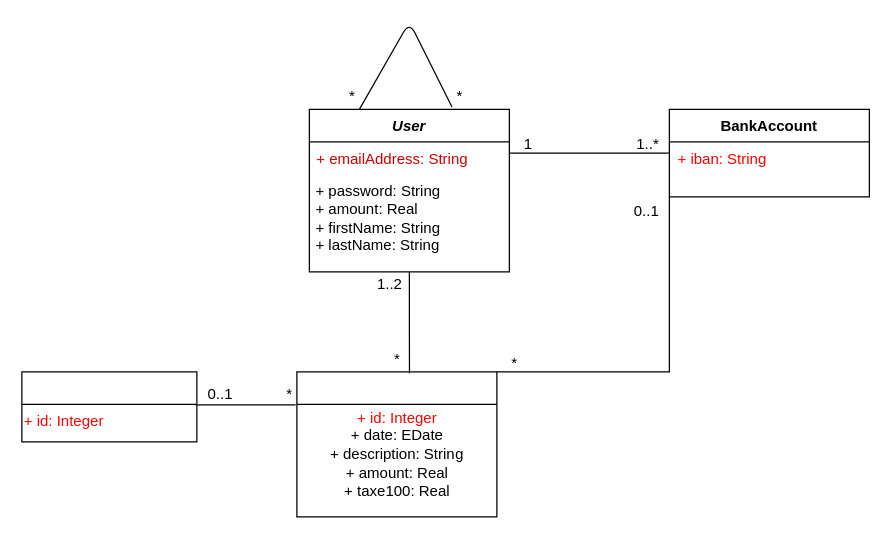
Some shapes in this 891 by 539 pixel diagram are drawn without their labels. Each missing label, with the box of its shape:
PaymentPlatform: (21, 371, 197, 442)
Transaction: (296, 371, 497, 517)
